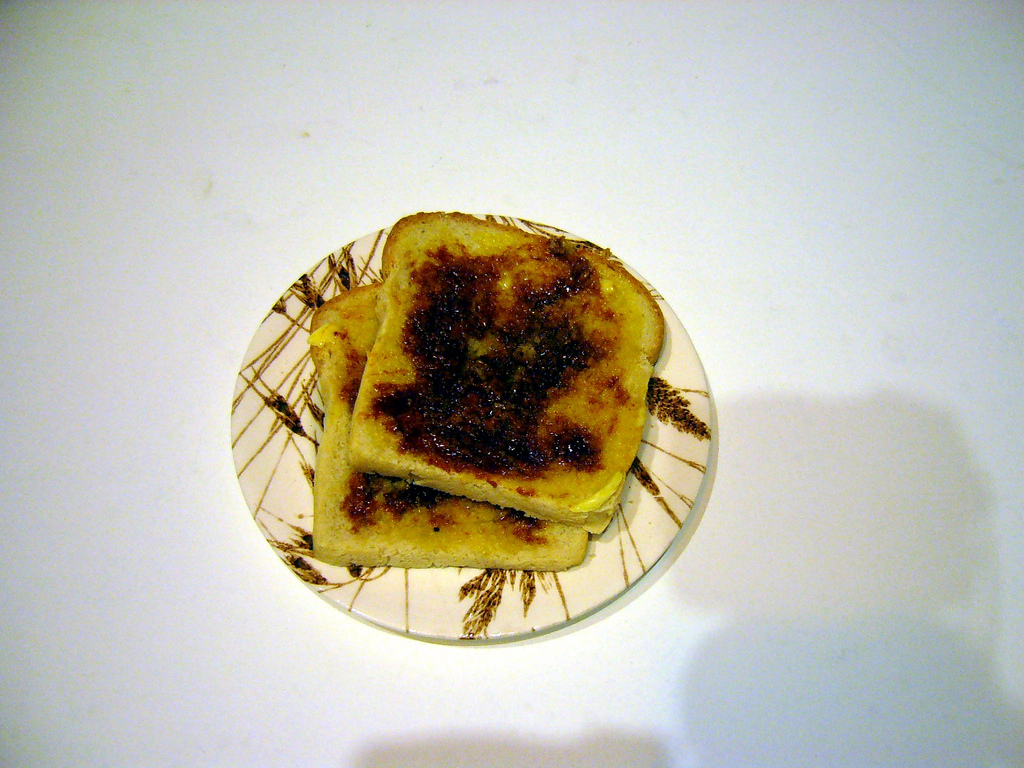slice of bread: (303, 211, 677, 579)
